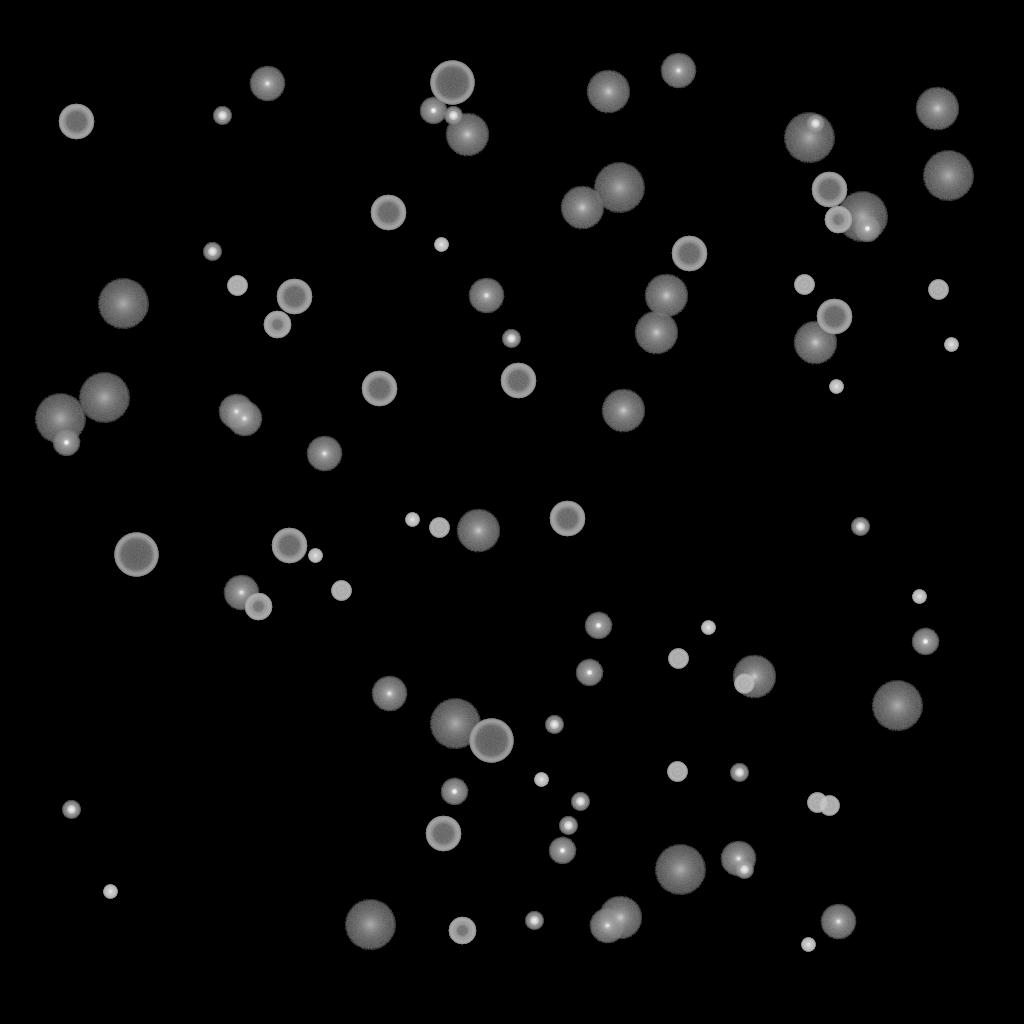depth:-10: (52, 429, 80, 457), (419, 97, 447, 125), (584, 612, 612, 640), (575, 659, 603, 687), (853, 215, 881, 243), (548, 837, 576, 865), (440, 778, 468, 806), (911, 628, 939, 656)
depth:-20: (806, 115, 824, 133), (444, 107, 462, 125), (571, 793, 589, 811), (545, 716, 563, 734), (213, 107, 231, 125), (525, 912, 543, 930), (502, 330, 520, 348), (62, 801, 80, 819), (851, 518, 869, 536), (203, 243, 221, 261), (730, 764, 748, 782), (735, 861, 753, 879), (559, 817, 577, 835)
depth:-30: (829, 380, 843, 394), (405, 513, 419, 527), (944, 338, 958, 352), (801, 938, 815, 952), (308, 549, 322, 563), (434, 238, 448, 252), (701, 621, 715, 635), (912, 590, 926, 604), (534, 773, 548, 787), (103, 885, 117, 899)
depth:-40: (794, 275, 814, 295), (668, 649, 688, 669), (429, 518, 449, 538), (734, 674, 754, 694), (667, 762, 687, 782), (819, 796, 839, 816), (331, 581, 351, 601), (928, 280, 948, 300), (807, 793, 827, 813), (227, 276, 247, 296)
depth:-50: (244, 593, 272, 621), (263, 311, 291, 339), (824, 206, 852, 234), (448, 917, 476, 945)
depth:-60: (671, 236, 707, 272), (276, 279, 312, 315), (816, 299, 852, 335), (425, 816, 461, 852), (58, 104, 94, 140), (271, 528, 307, 564), (500, 363, 536, 399), (361, 371, 397, 407), (811, 172, 847, 208), (370, 195, 406, 231), (549, 501, 585, 537)
depth:-70: (469, 719, 513, 763), (430, 61, 474, 105), (114, 533, 158, 577)
depth:0: (218, 394, 254, 430), (589, 908, 625, 944), (223, 575, 259, 611), (226, 401, 262, 437), (371, 676, 407, 712), (468, 278, 504, 314), (306, 436, 342, 472), (820, 904, 856, 940), (720, 841, 756, 877), (249, 66, 285, 102), (660, 53, 696, 89)
depth:10: (445, 113, 489, 157), (915, 87, 959, 131), (793, 321, 837, 365), (601, 389, 645, 433), (560, 186, 604, 230), (586, 70, 630, 114), (634, 311, 678, 355), (598, 896, 642, 940), (456, 509, 500, 553), (644, 274, 688, 318), (732, 655, 776, 699)
depth:20: (593, 163, 645, 213), (836, 192, 888, 242), (654, 845, 706, 895), (97, 279, 149, 329), (783, 113, 835, 163), (34, 394, 86, 444), (344, 900, 396, 950), (429, 699, 481, 749), (78, 373, 130, 423), (871, 681, 923, 731), (922, 151, 974, 201)
